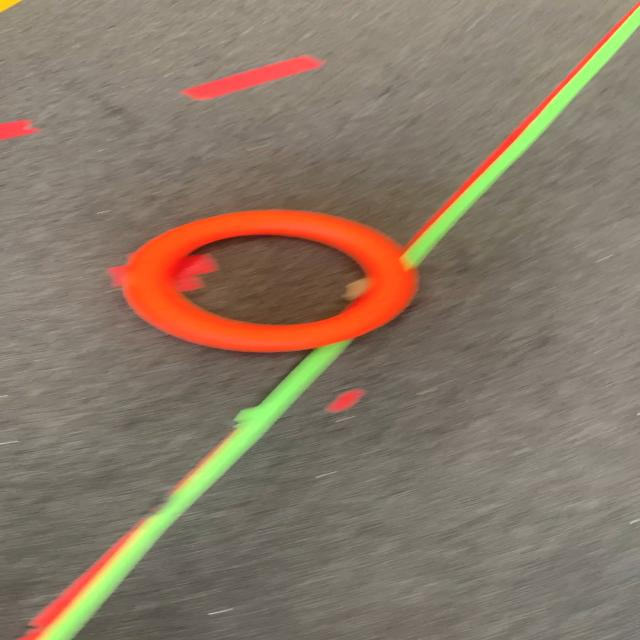notes: (123, 210, 419, 351)
